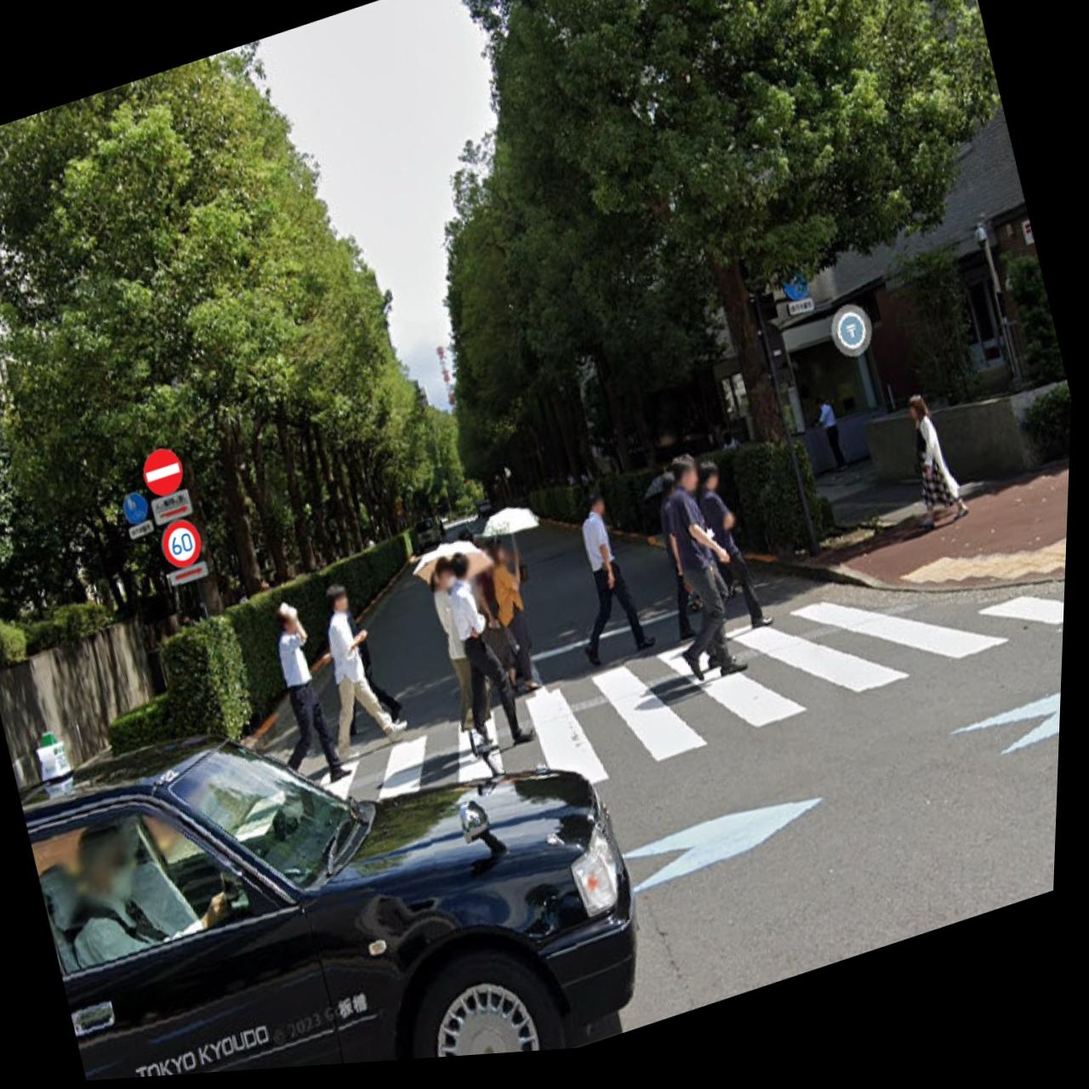barrier: (134, 440, 190, 502)
